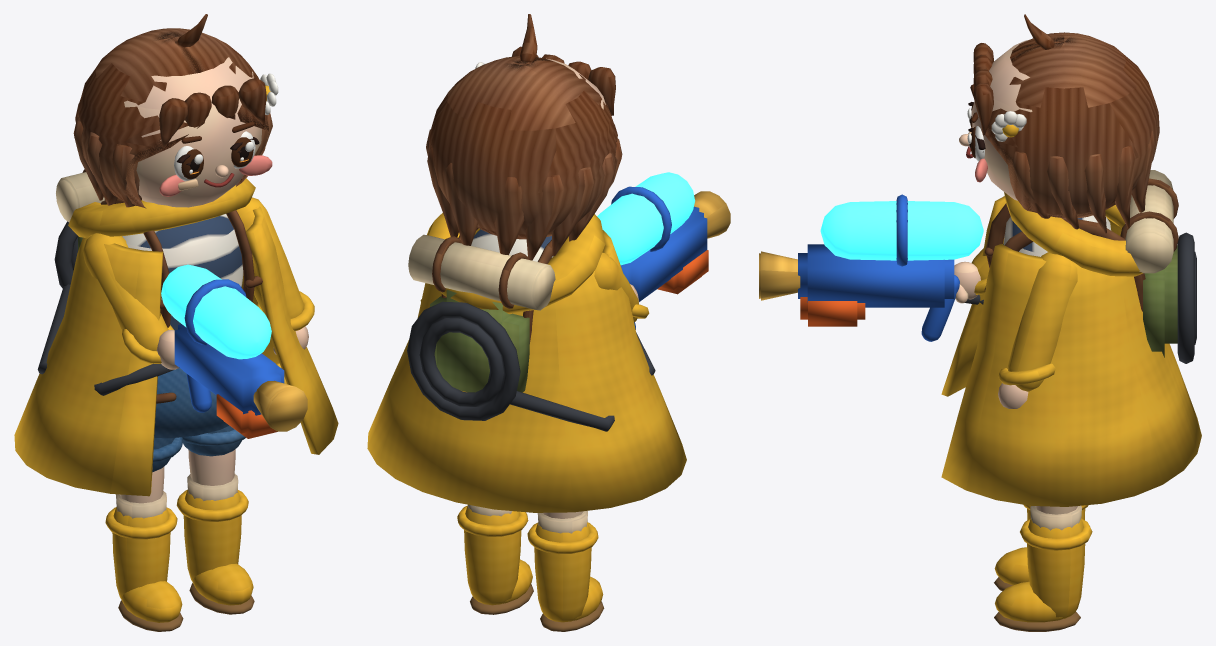
The model's file is char_seeker_ranger.glb.
The picture shows the model from 3 angles, left to right: view 1: azimuth 30°, elevation 25°; view 2: azimuth 150°, elevation 25°; view 3: azimuth 270°, elevation 25°; orthographic projection.
Parts seen in each view (by area): view 1: Torso, Head, Blaster, LegL, LegR, ArmR, ArmL, EyeOpen; view 2: Torso, Head, Blaster, LegR, LegL, ArmR; view 3: Torso, Head, Blaster, LegL, ArmL, ArmR, LegR.
Boxes of the visible parts, x1=… form: Torso: x1=14, y1=169, x2=338, y2=496; Head: x1=73, y1=14, x2=278, y2=208; Blaster: x1=161, y1=264, x2=307, y2=438; LegL: x1=176, y1=425, x2=254, y2=614; LegR: x1=105, y1=437, x2=183, y2=631; ArmR: x1=82, y1=233, x2=178, y2=369; ArmL: x1=236, y1=197, x2=314, y2=354; EyeOpen: x1=174, y1=131, x2=259, y2=181; Torso: x1=367, y1=213, x2=686, y2=512; Head: x1=426, y1=14, x2=622, y2=260; Blaster: x1=597, y1=172, x2=730, y2=329; LegR: x1=527, y1=510, x2=604, y2=631; LegL: x1=457, y1=504, x2=533, y2=614; ArmR: x1=594, y1=252, x2=649, y2=322; Torso: x1=941, y1=170, x2=1201, y2=506; Head: x1=959, y1=14, x2=1159, y2=233; Blaster: x1=759, y1=194, x2=983, y2=341; LegL: x1=994, y1=505, x2=1092, y2=631; ArmL: x1=998, y1=252, x2=1077, y2=408; ArmR: x1=954, y1=238, x2=1004, y2=303; LegR: x1=994, y1=504, x2=1088, y2=590.
Bounding box in the file's own units: 0.7763 × 1.53 × 1.02.
Materials: 27 (11 with a texture image).
